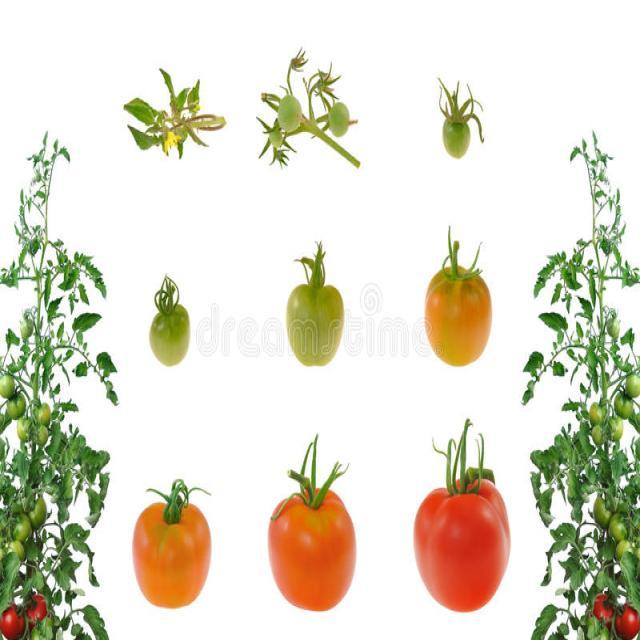kirmizi: (416, 446, 514, 612)
sari: (136, 464, 230, 614)
yesil: (138, 278, 370, 386)
